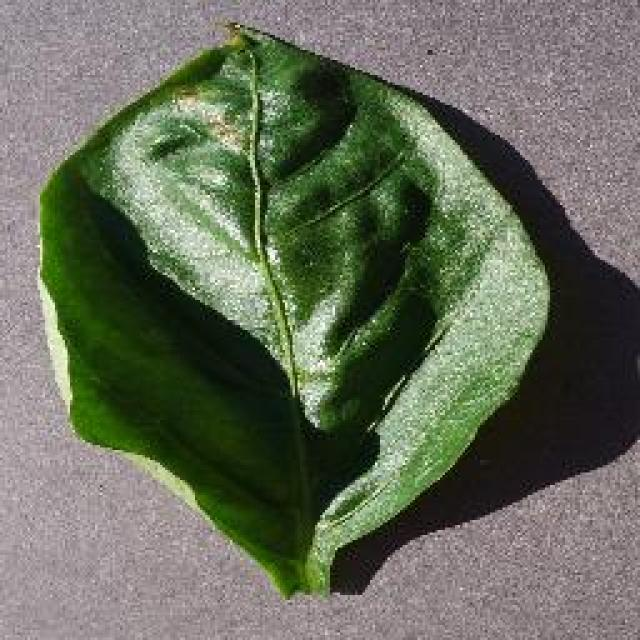Chilli_Bacterial_Spot: (33, 18, 555, 600), (215, 15, 245, 47)
